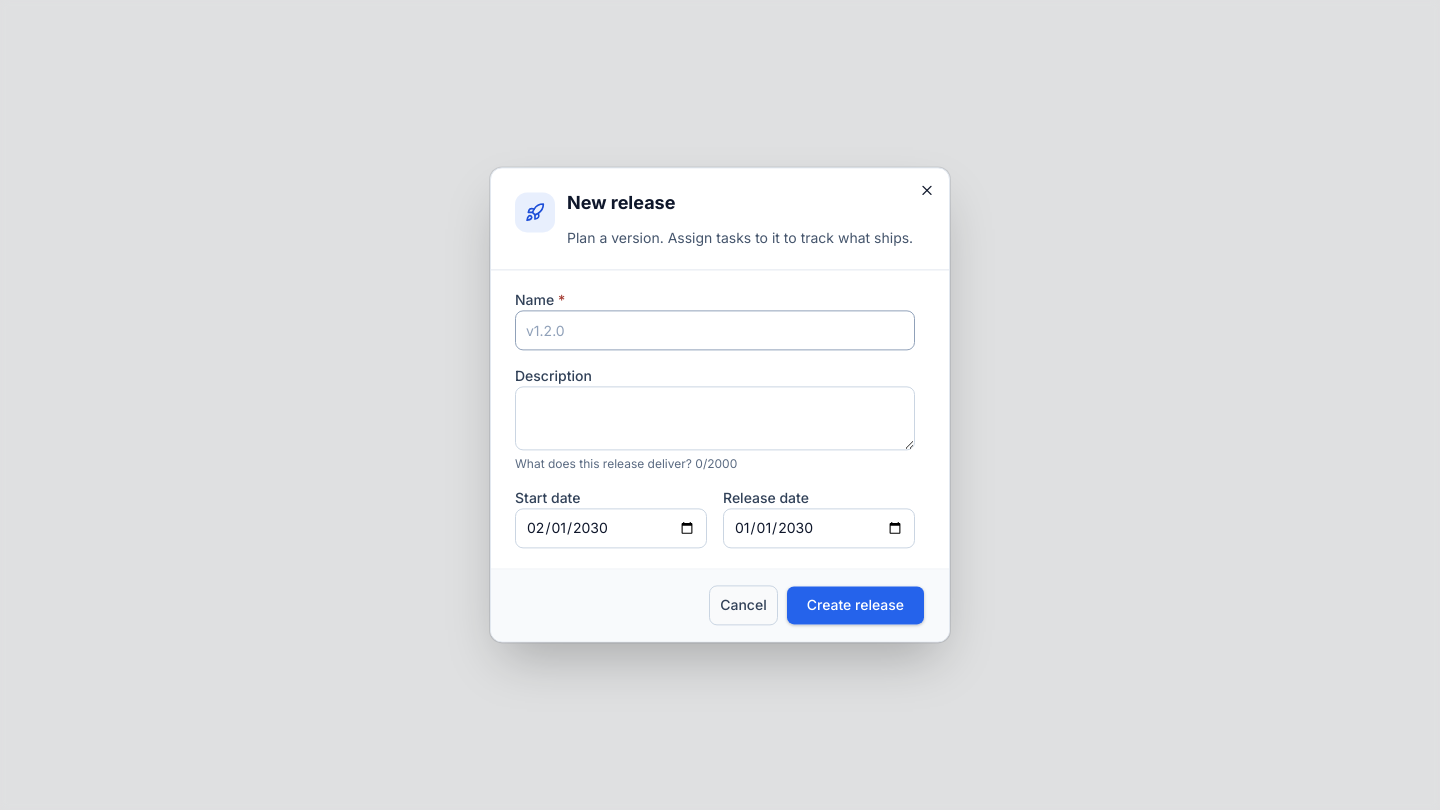
Test: ReleaseFormDialog › requires a name and keeps the release date after the start date
Click the button "Create release": (855, 606) [786,586,925,626]
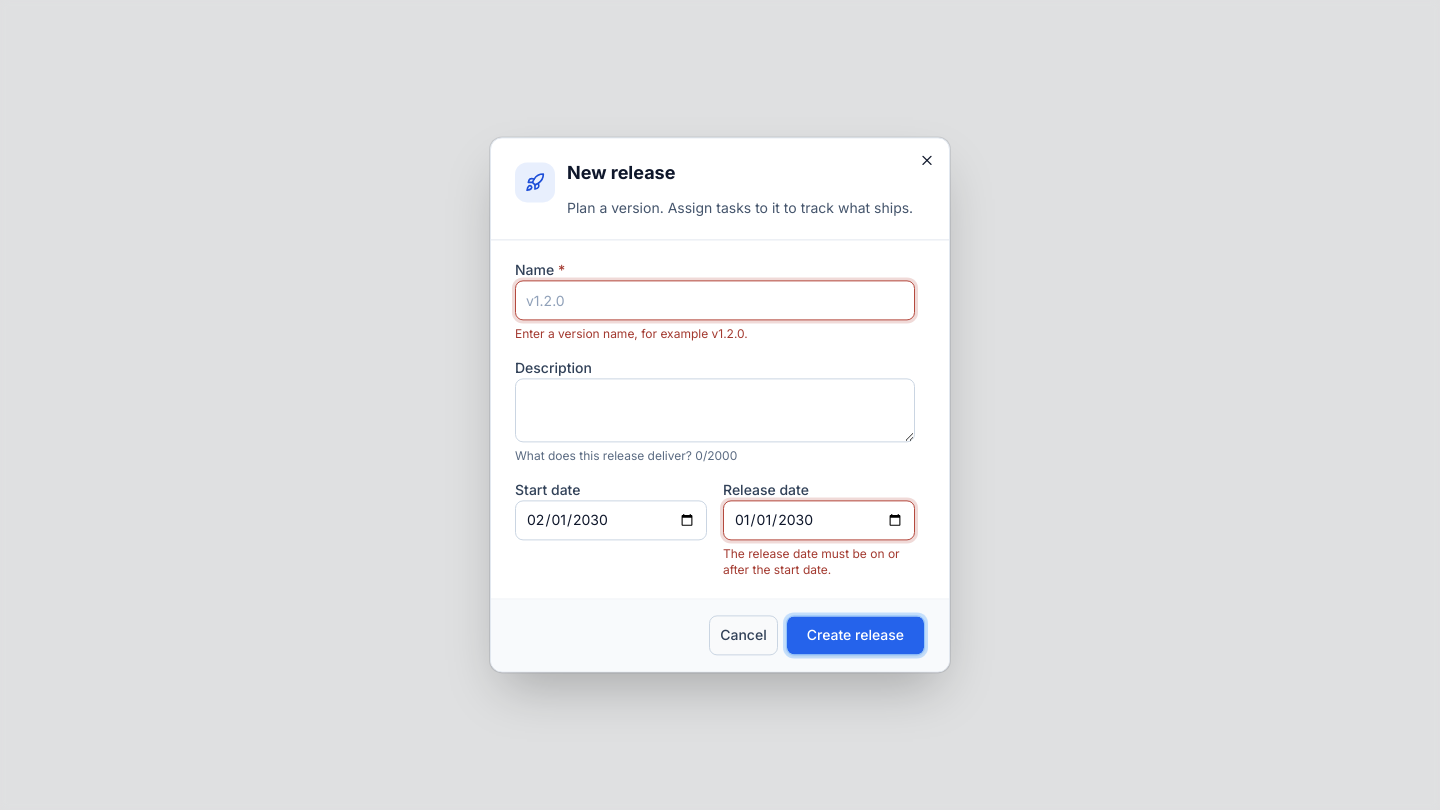
Expected: the text "Enter a version name, for example v1.2.0." is shown, [515,327,748,342]
Expected: the text "The release date must be on or after the start date." is shown, [723,547,915,579]
